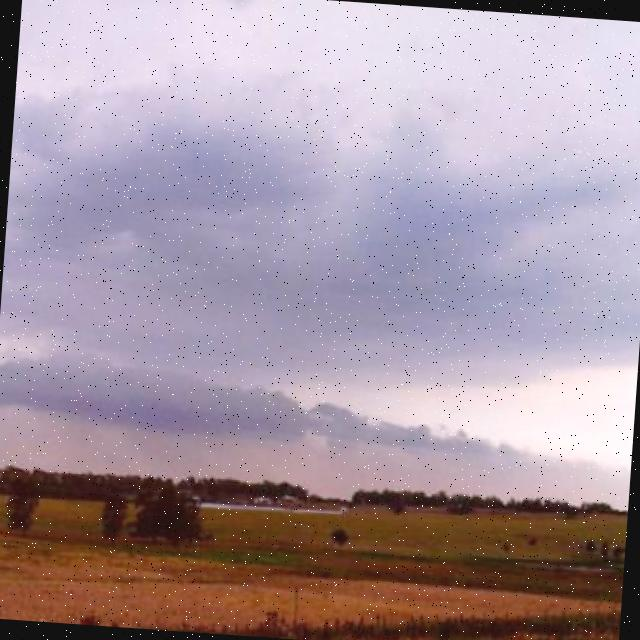St: (1, 21, 640, 472)
